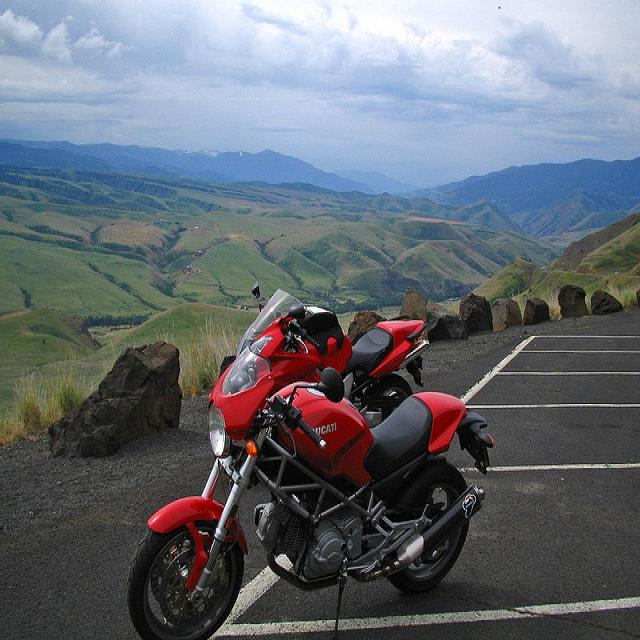motor: (130, 287, 494, 640)
